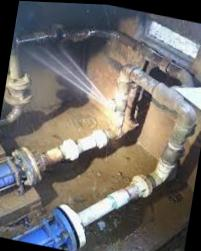leak: (17, 38, 115, 111)
